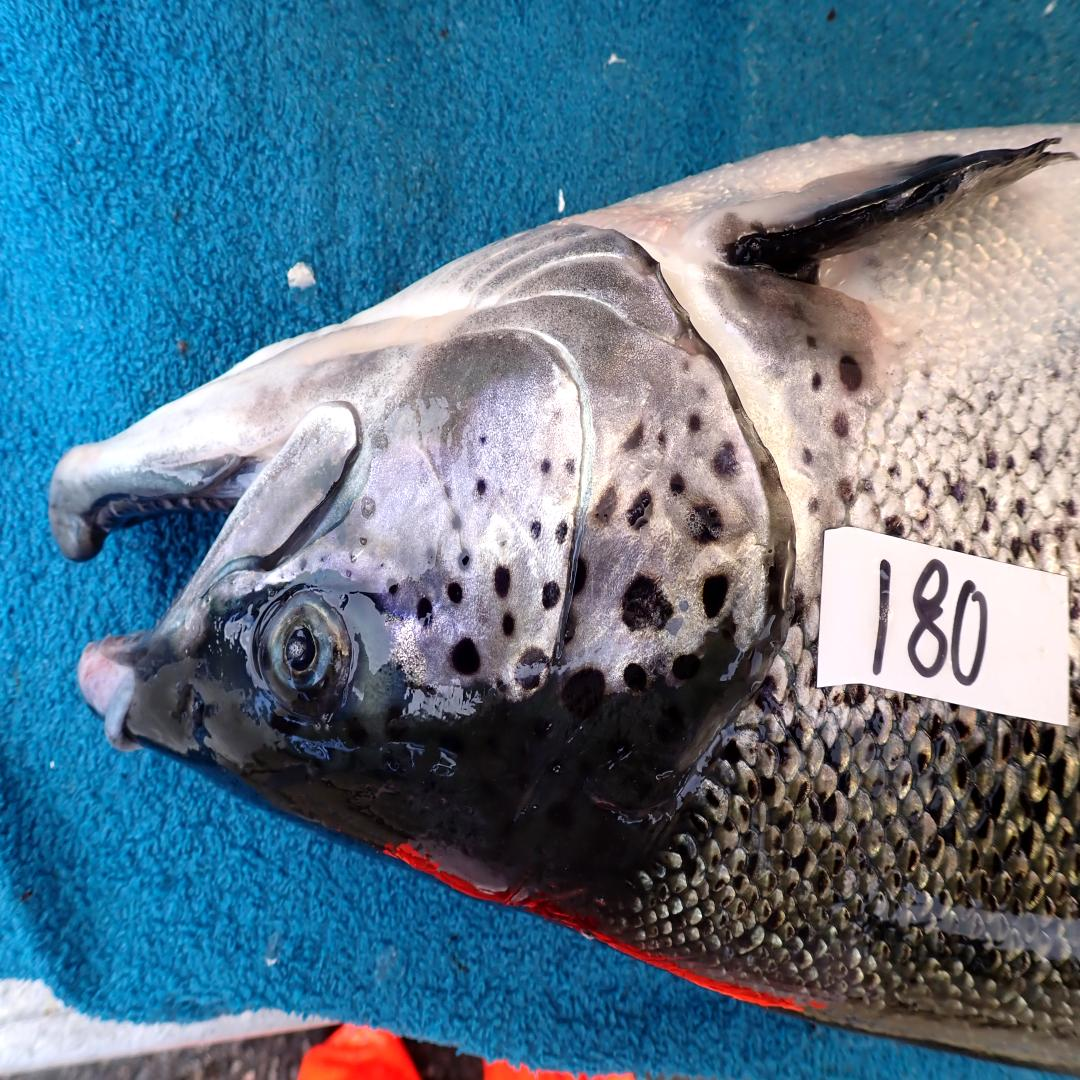roi: (363, 214, 787, 700)
